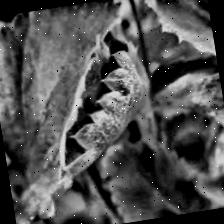Powdery Mildew Leaf: (35, 25, 165, 186)
